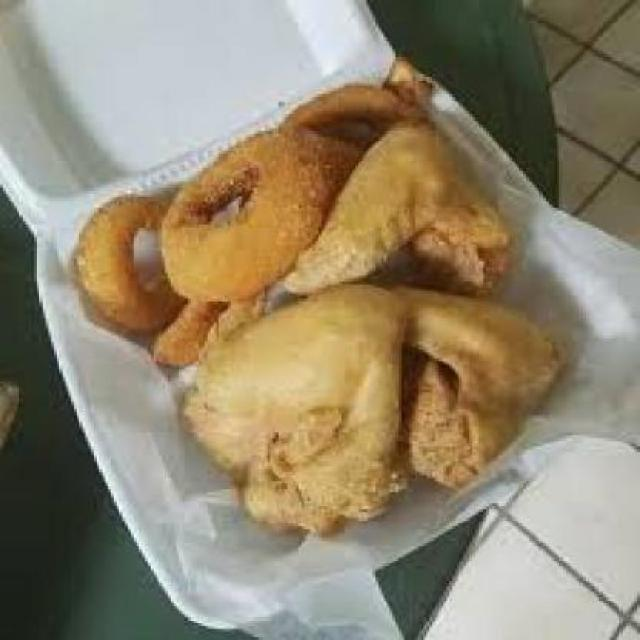chicken wings: (205, 117, 549, 529)
onion rings: (68, 48, 427, 350)
